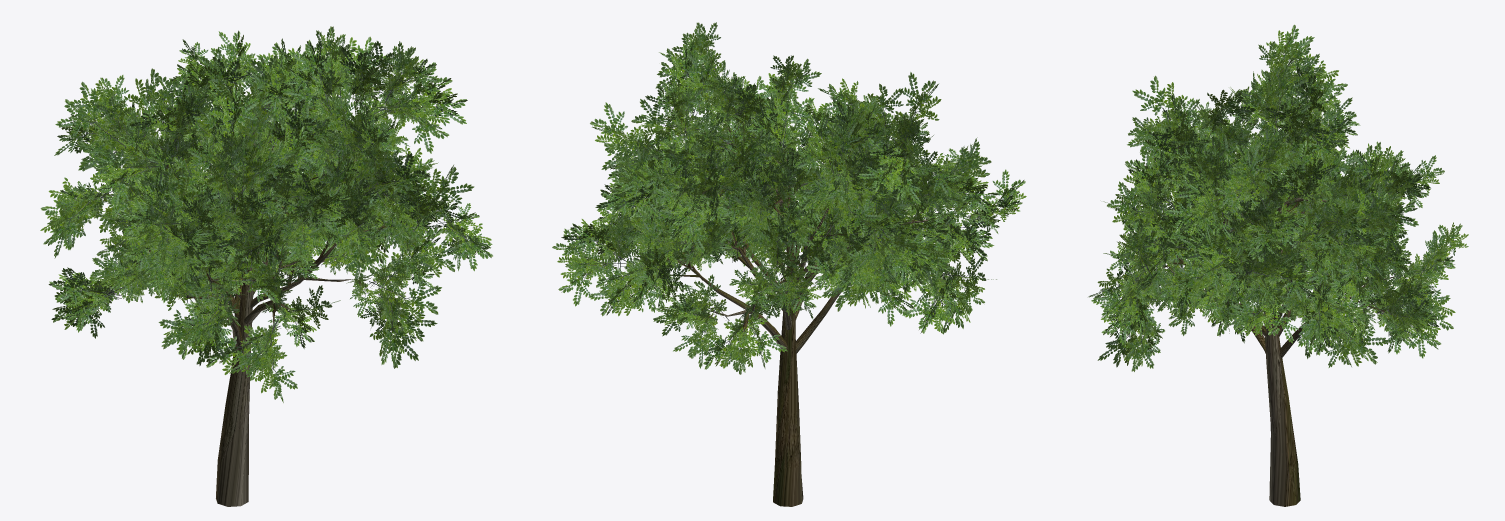
File: shade-b-far.glb
3 views of the same model, side by side, from view 1: azimuth 30°, elevation 25°; view 2: azimuth 150°, elevation 25°; view 3: azimuth 270°, elevation 25° (orthographic). The views are drawn at different scales.
Parts seen in each view (by area): view 1: leaves, bark; view 2: leaves, bark; view 3: leaves, bark.
Part boxes in pixels (box(x1,y1,x2,y2)): leaves: box(40, 26, 492, 402); bark: box(127, 76, 391, 506); leaves: box(552, 22, 1026, 374); bark: box(645, 116, 974, 506); leaves: box(1088, 24, 1468, 371); bark: box(1155, 121, 1404, 506).
Size of the model in its own units: 0.9225 by 1.01 by 0.883.
2 materials, 2 textured.
